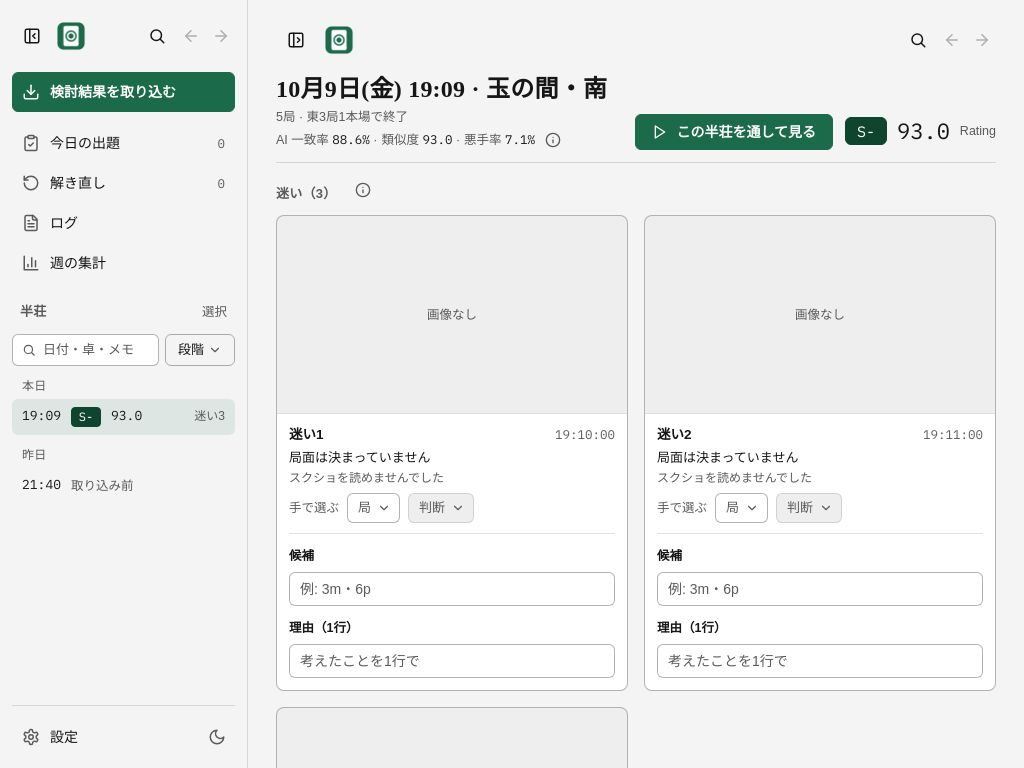
U-32 細い窓: 引き出し › Esc で閉じて、左上のボタンへ位置が戻る（ページのスクロールも戻る）
This screenshot has width=1024, height=768.
Expected: the heading "10月9日(金) 19:09 · 玉の間・南" is shown, x1=276 y1=74 x2=607 y2=105
Step 1. Click the button named "サイドバーを" → (296, 40), box x1=276 y1=20 x2=316 y2=60
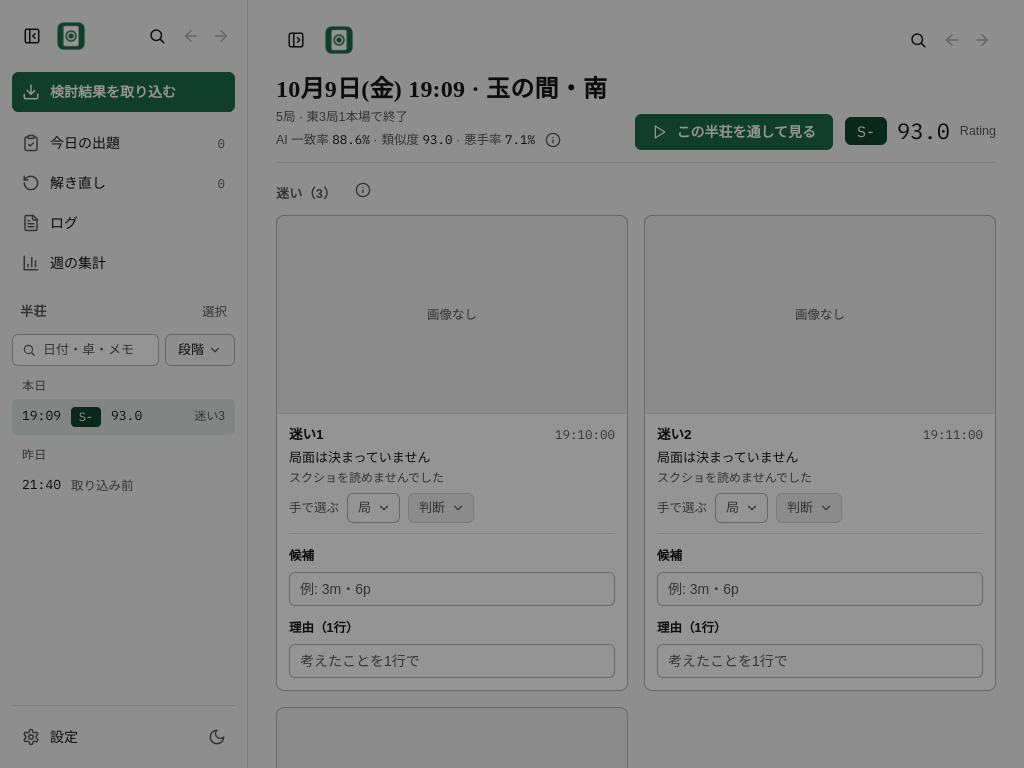
Step 2. Press Escape
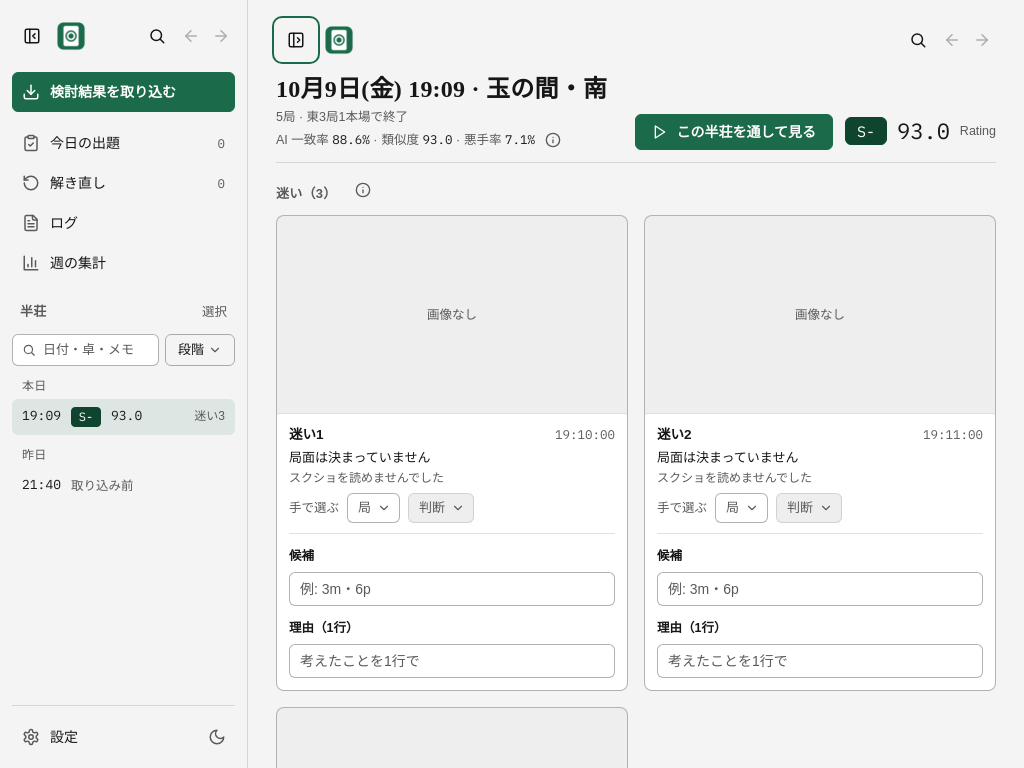
Expected: the button is gone
